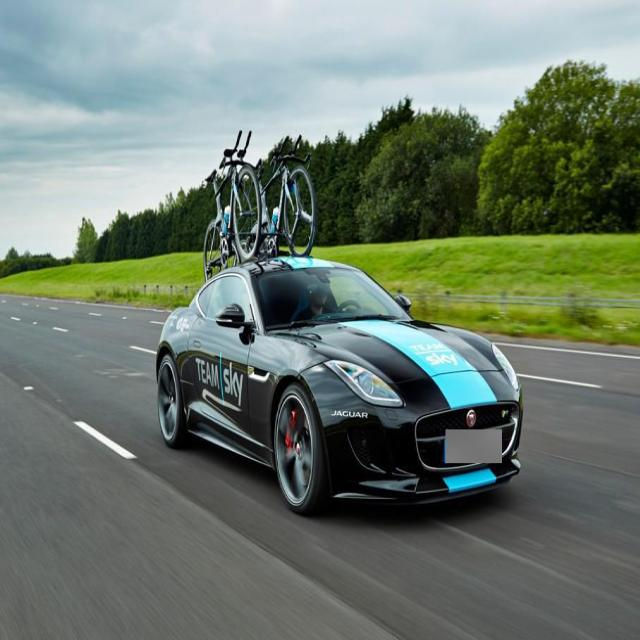front_bumper: (317, 382, 539, 516)
front_glass: (249, 260, 415, 336)
front_left_side_light: (480, 336, 531, 399)
front_left_side_mirror: (390, 292, 419, 320)
front_right_side_door: (186, 270, 265, 474)
front_right_side_light: (321, 351, 413, 416)
front_right_side_mirror: (212, 291, 259, 354)
wheel: (272, 371, 334, 527), (152, 345, 198, 457)
